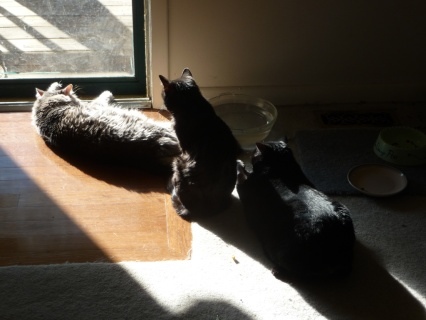Cat: (236, 134, 357, 278), (32, 79, 183, 180), (159, 67, 241, 216)
